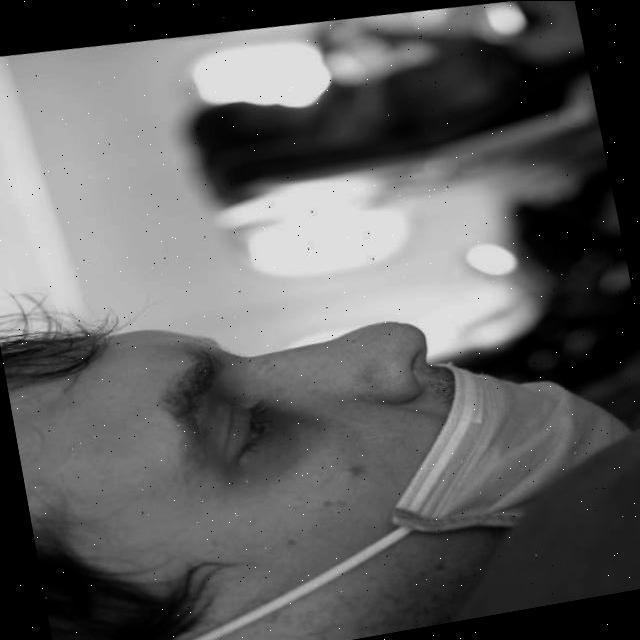no_gloves: (0, 314, 198, 632)
no_hairnet: (324, 302, 500, 532)
